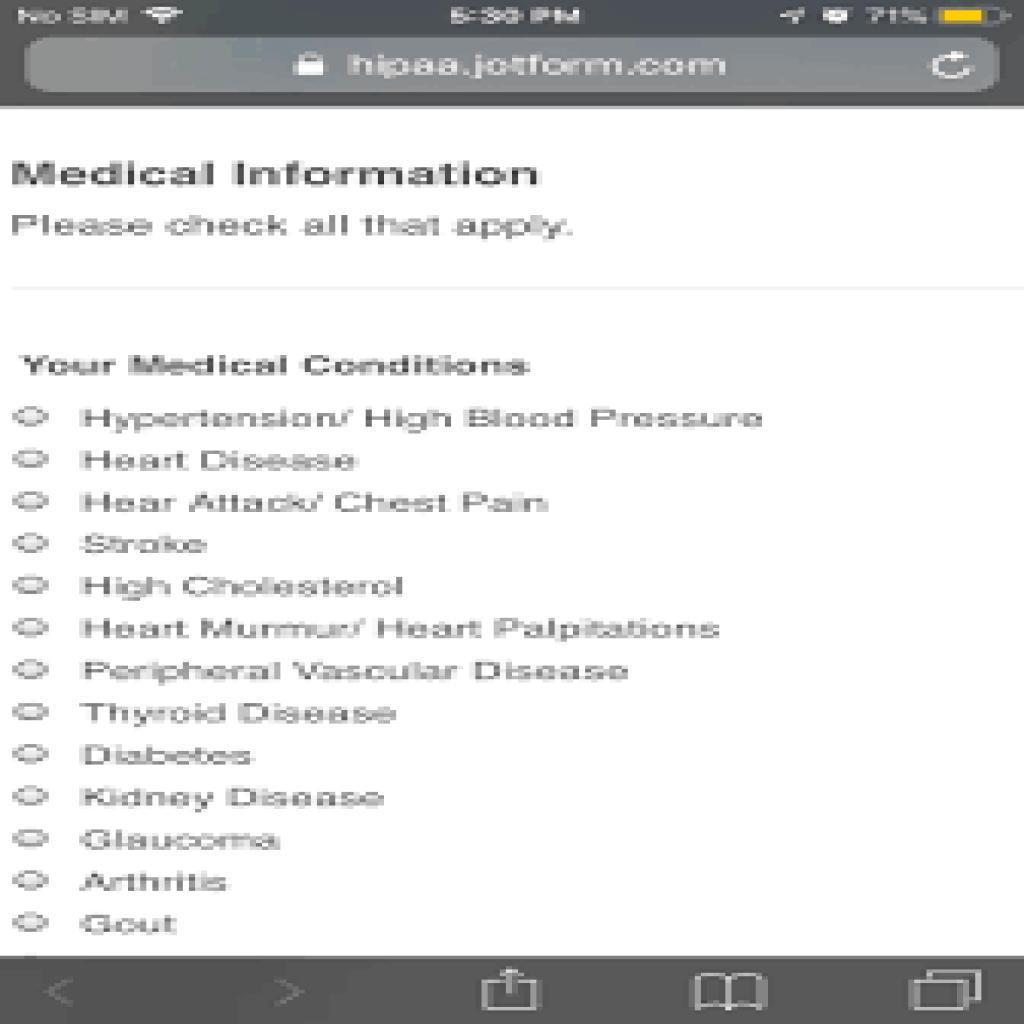icon: (905, 964, 987, 1019), (690, 968, 773, 1018), (479, 966, 543, 1016), (921, 45, 982, 85)
label: (76, 404, 769, 435), (76, 615, 723, 646), (76, 657, 635, 688), (78, 489, 553, 520), (78, 572, 408, 601), (76, 784, 390, 813), (75, 701, 405, 728), (78, 448, 362, 475), (77, 825, 283, 857), (75, 741, 258, 769), (75, 870, 231, 898), (76, 532, 215, 558), (77, 912, 179, 940)
radio: (11, 490, 52, 515), (12, 743, 52, 768), (12, 658, 52, 683), (12, 870, 52, 894), (12, 617, 52, 641), (11, 912, 52, 935), (13, 786, 52, 810), (12, 533, 52, 556), (11, 407, 51, 429), (11, 448, 51, 470), (11, 703, 52, 723), (12, 829, 52, 849), (12, 576, 52, 596)
